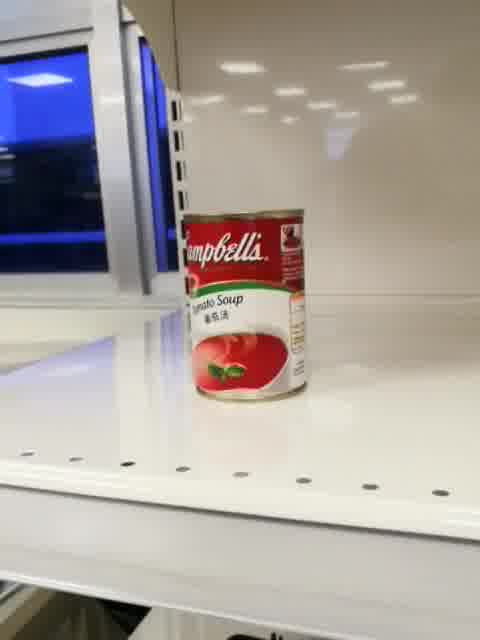tomatosoup: (183, 206, 313, 403)
